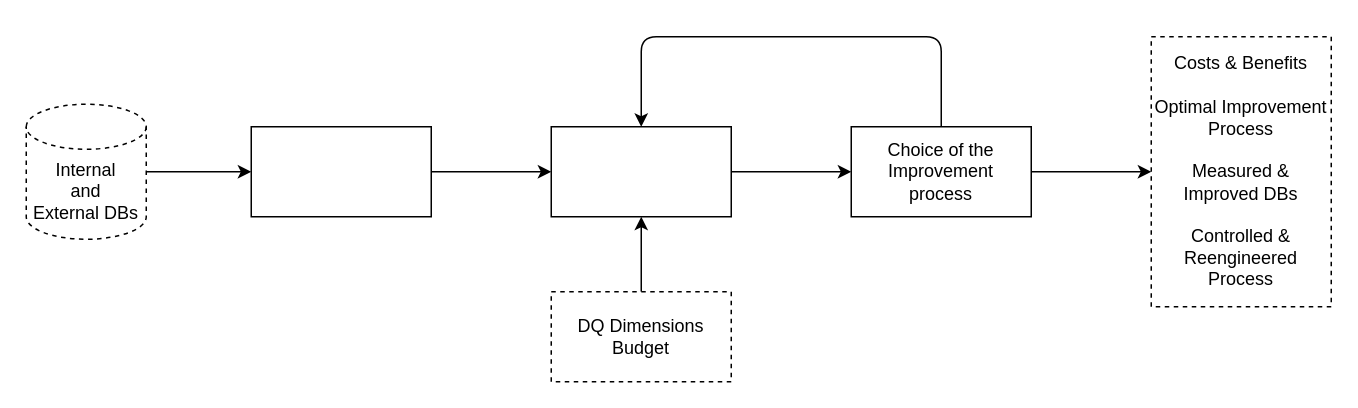
The diagram is 1358 pixels wide and 408 high, and some of its shapes have lost their labels. Here are the shapes that lost their labels. From the top down, the centre of each, then its label:
At (x=340, y=171): "State reconstruction".
At (x=640, y=171): "Assessment".
